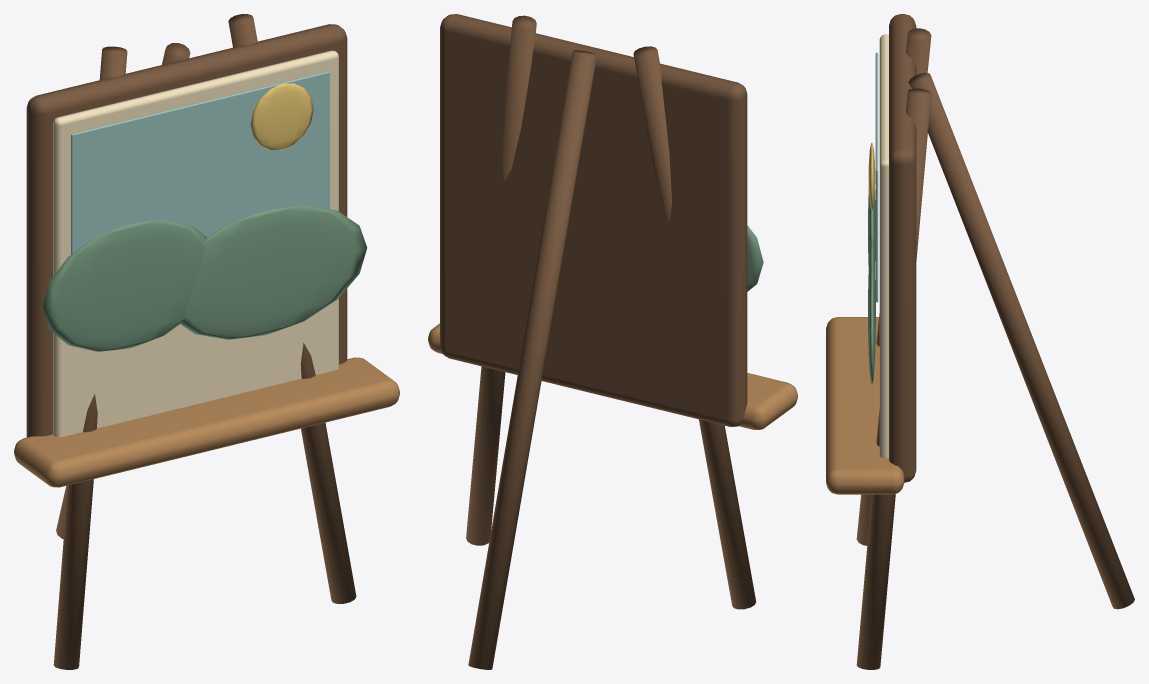
Rendered from easel.glb.
3 views of the same model, side by side, from view 1: azimuth 30°, elevation 25°; view 2: azimuth 150°, elevation 25°; view 3: azimuth 270°, elevation 25° (orthographic). The views are drawn at different scales.
Parts seen in each view (by area): view 1: easel_World_Mesh; view 2: easel_World_Mesh; view 3: easel_World_Mesh.
Part boxes in pixels (x1,y1,x2,y2): easel_World_Mesh: [14, 14, 399, 669]; easel_World_Mesh: [428, 14, 797, 669]; easel_World_Mesh: [826, 14, 1134, 669].
Bounding box in the file's own units: 1.12 × 1.77 × 0.908.
